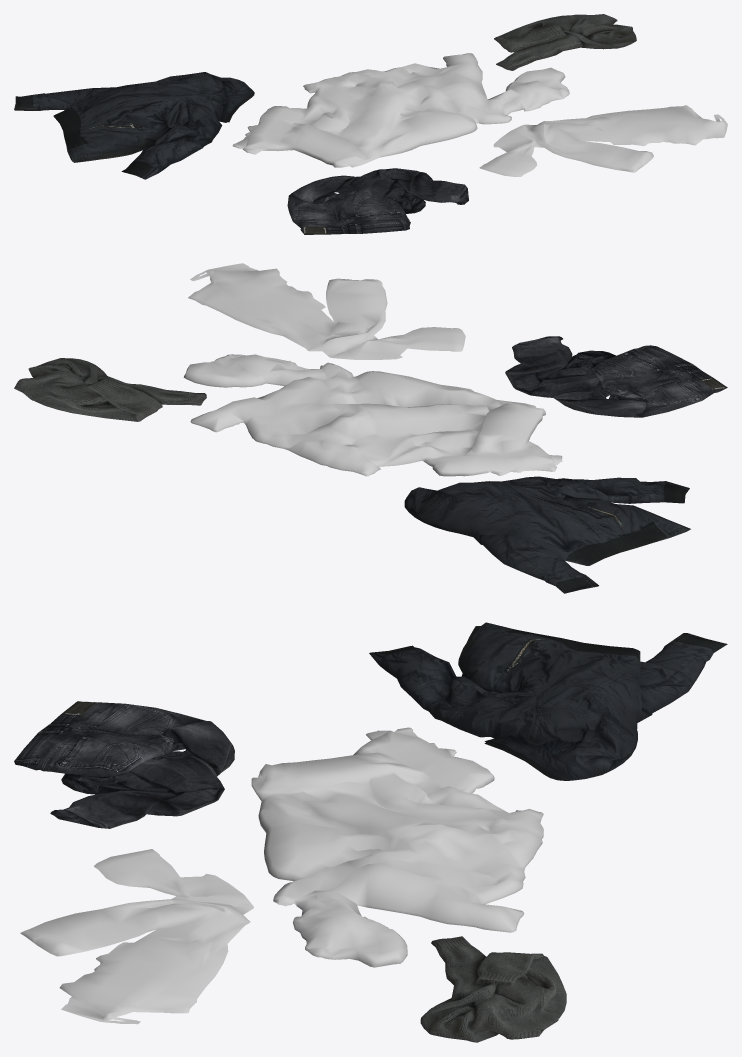
The model's file is Clothing_01.FBX.
3 renders of one model, top to bottom at view 1: azimuth 30°, elevation 25°; view 2: azimuth 150°, elevation 25°; view 3: azimuth 270°, elevation 25°, orthographic. The views are drawn at different scales.
Parts seen in each view (by area): view 1: cloth_pile_01, cloth_01, cloth_03, cloth_02, cloth_04; view 2: cloth_pile_01, cloth_01, cloth_03, cloth_02, cloth_04; view 3: cloth_pile_01, cloth_01, cloth_03, cloth_02, cloth_04.
Boxes of the visible parts, <box> form: cloth_pile_01: <box>232,53,569,167</box>; cloth_01: <box>14,72,254,179</box>; cloth_03: <box>479,105,727,176</box>; cloth_02: <box>287,168,468,234</box>; cloth_04: <box>494,14,636,70</box>; cloth_pile_01: <box>183,354,562,476</box>; cloth_01: <box>404,476,690,593</box>; cloth_03: <box>188,263,465,359</box>; cloth_02: <box>505,336,727,417</box>; cloth_04: <box>14,358,206,421</box>; cloth_pile_01: <box>251,727,543,967</box>; cloth_01: <box>369,622,727,780</box>; cloth_03: <box>20,849,253,1024</box>; cloth_02: <box>14,701,234,828</box>; cloth_04: <box>420,936,566,1042</box>.
Bounding box in the file's own units: 3.66 × 2.66 × 0.1516.
